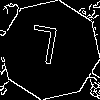L: (25, 25, 60, 74)
